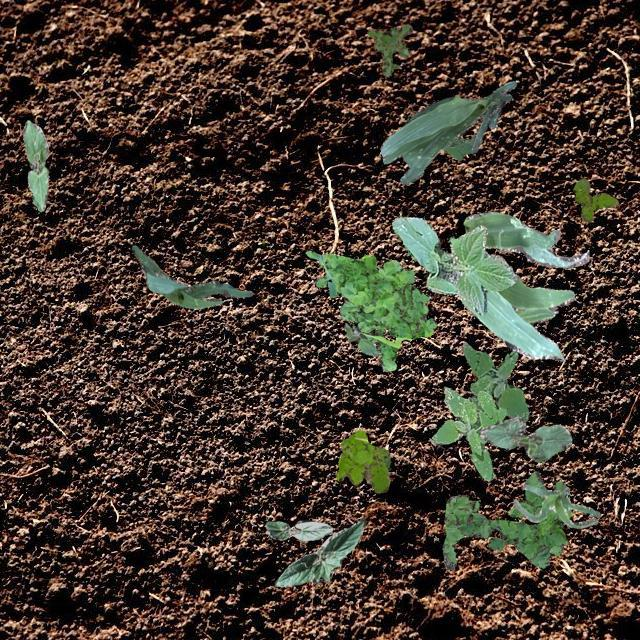crop: (459, 210, 588, 358), (380, 80, 514, 184), (390, 216, 516, 314), (130, 245, 252, 308), (274, 518, 366, 586), (478, 416, 570, 460), (511, 483, 599, 528), (22, 120, 48, 210), (264, 520, 332, 540)
weed: (304, 250, 436, 370), (442, 469, 570, 568), (430, 386, 506, 480), (460, 342, 528, 421), (336, 429, 390, 492), (366, 24, 412, 76), (572, 178, 618, 222), (344, 316, 378, 356), (442, 136, 476, 160)
